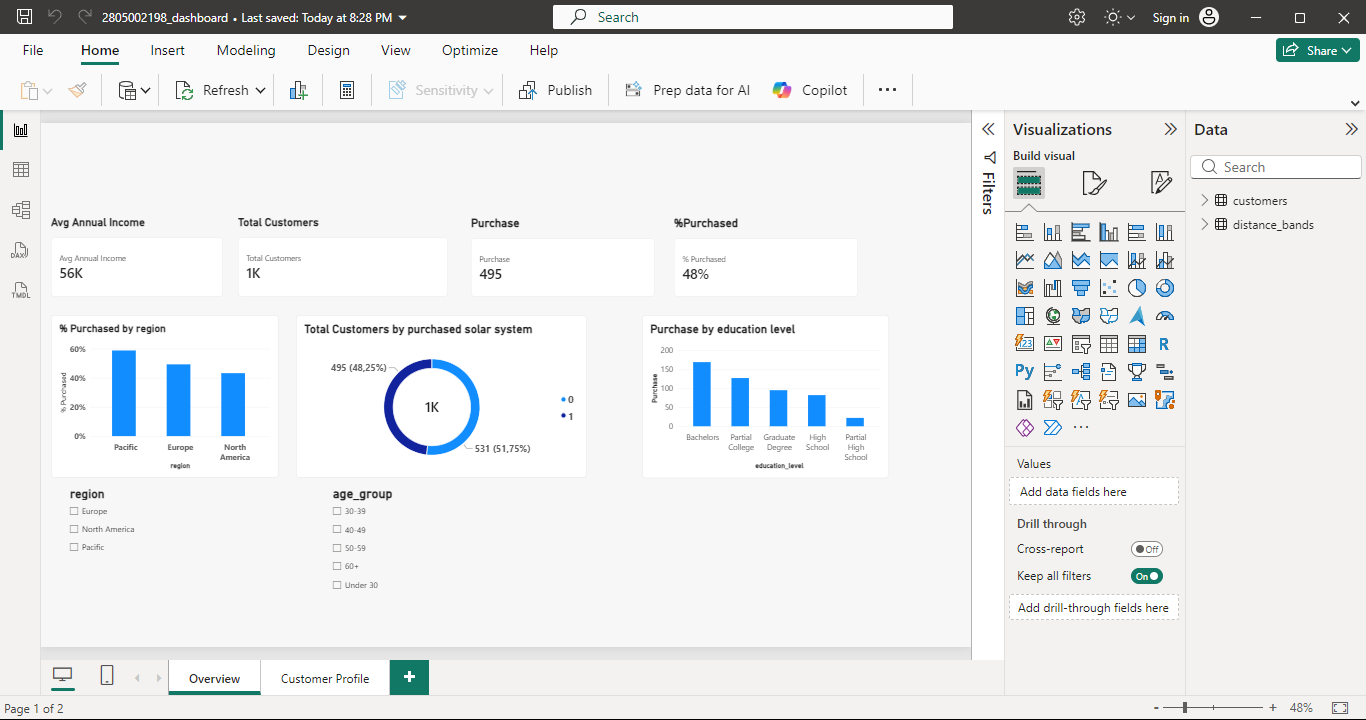

What the dashboard file says about the page in this screenshot:
{"tool":"powerbi","page":{"name":"Overview","canvas":[1920,1080],"ordinal":0},"visuals":[{"type":"cardVisual","fields":{"Data":["customers.Total Customers"]},"box":[406.7,192,433.5,167.2],"z":1},{"type":"cardVisual","fields":{"Data":["customers.Avg Annual Income"]},"box":[20.6,192,355.1,167.2],"z":3},{"type":"textbox","box":[113.5,0,751.5,130.1],"z":4},{"type":"textbox","box":[0,0,1776.7,163.3],"z":5},{"type":"cardVisual","fields":{"Data":["customers.Purchase"]},"box":[887.7,192,379.9,167.2],"z":6},{"type":"cardVisual","fields":{"Data":["customers.% Purchased"]},"box":[1306.8,192,379.9,167.2],"z":7},{"type":"clusteredColumnChart","fields":{"Category":["customers.region"],"Y":["customers.% Purchased"]},"box":[20,396,470,336],"z":8},{"type":"donutChart","fields":{"Category":["customers.purchased_solar_system"],"Y":["customers.Total Customers"]},"box":[526,396,600,336],"z":9},{"type":"clusteredColumnChart","fields":{"Category":["customers.education_level"],"Y":["customers.Purchase"]},"box":[1138.3,398.3,510,336.7],"z":10},{"type":"slicer","fields":{"Values":["customers.region"]},"box":[52,750,406,232],"z":11},{"type":"slicer","fields":{"Values":["customers.age_group"]},"box":[594,750,384,260],"z":12}]}

Visuals, with their boxes on the page's 1920x1080 design canvas (x1, y1, x2, y2). These are canvas units, not pixel positions in the 1366x720 screenshot, which may show the page scaled, cropped or inside an application window:
cardVisual - customers.Total Customers: <box>407,192,840,359</box>
cardVisual - customers.Avg Annual Income: <box>21,192,376,359</box>
textbox: <box>114,0,865,130</box>
textbox: <box>0,0,1777,163</box>
cardVisual - customers.Purchase: <box>888,192,1268,359</box>
cardVisual - customers.% Purchased: <box>1307,192,1687,359</box>
clusteredColumnChart - customers.region x customers.% Purchased: <box>20,396,490,732</box>
donutChart - customers.purchased_solar_system x customers.Total Customers: <box>526,396,1126,732</box>
clusteredColumnChart - customers.education_level x customers.Purchase: <box>1138,398,1648,735</box>
slicer - customers.region: <box>52,750,458,982</box>
slicer - customers.age_group: <box>594,750,978,1010</box>
